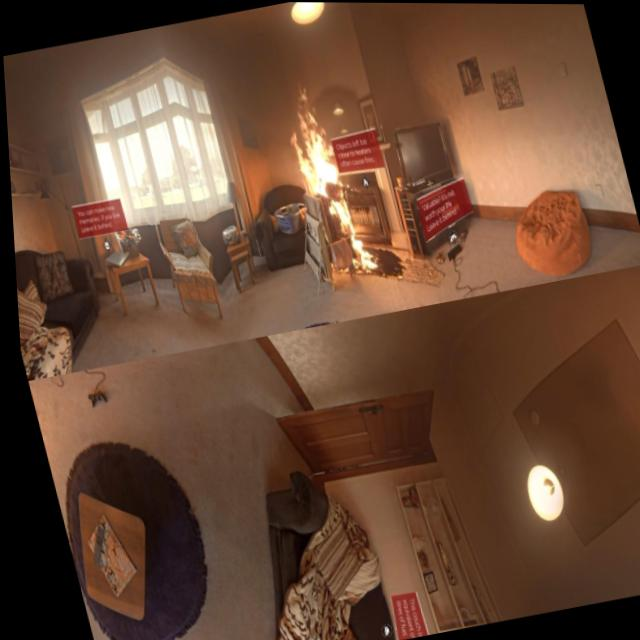fire: (275, 76, 378, 281)
